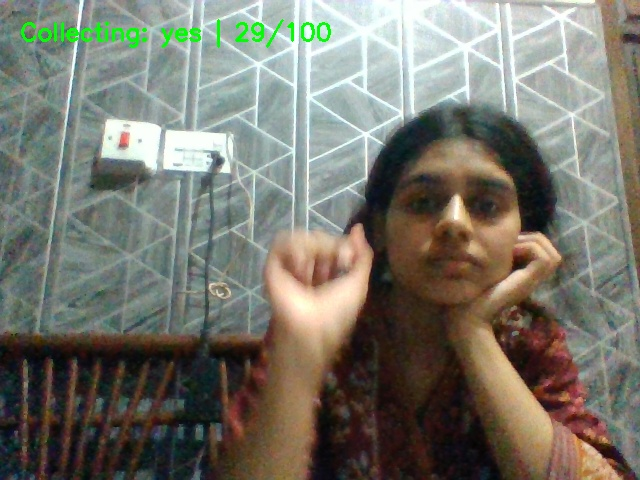yes: (256, 211, 400, 396), (255, 210, 399, 393)
